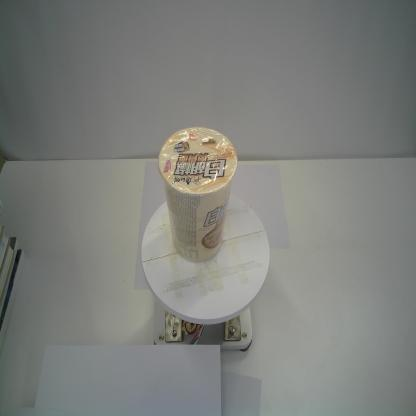Instant Noodles: (157, 126, 239, 264)
